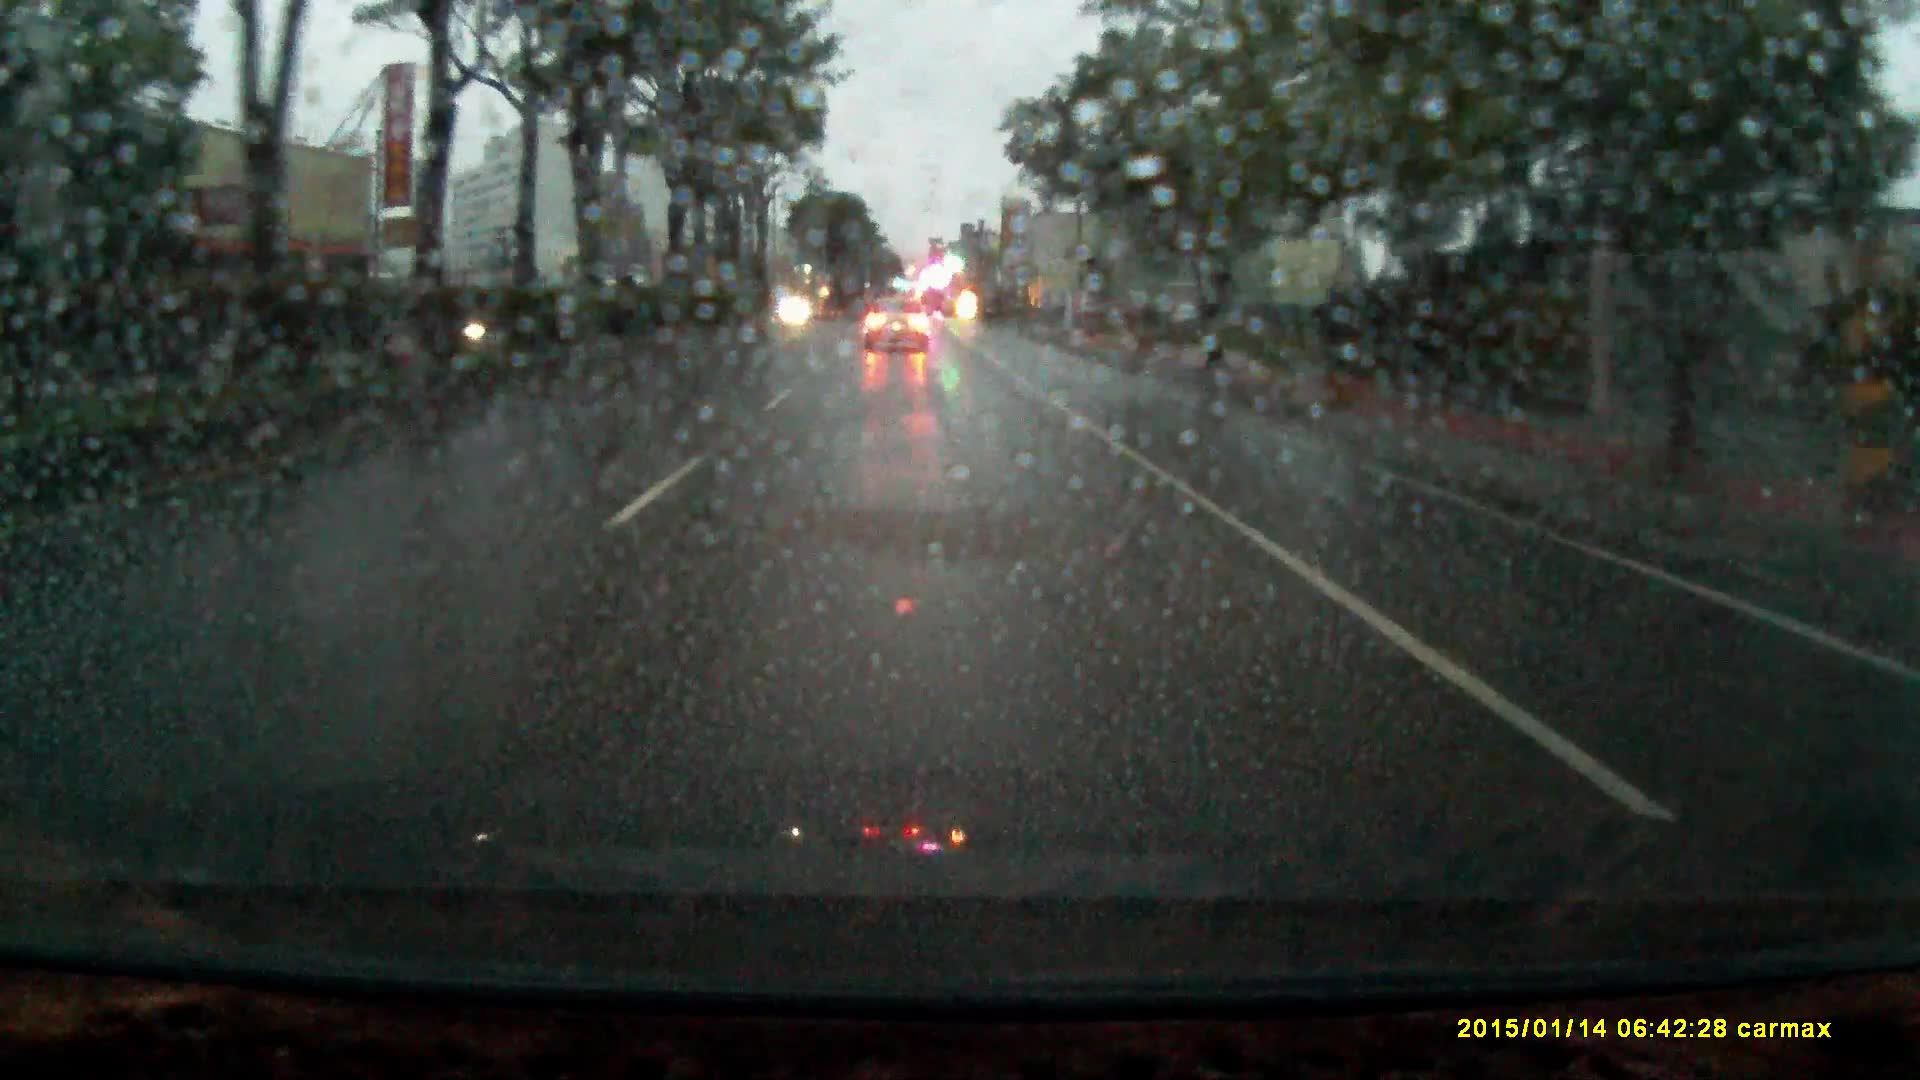vehicle: (862, 301, 934, 360)
